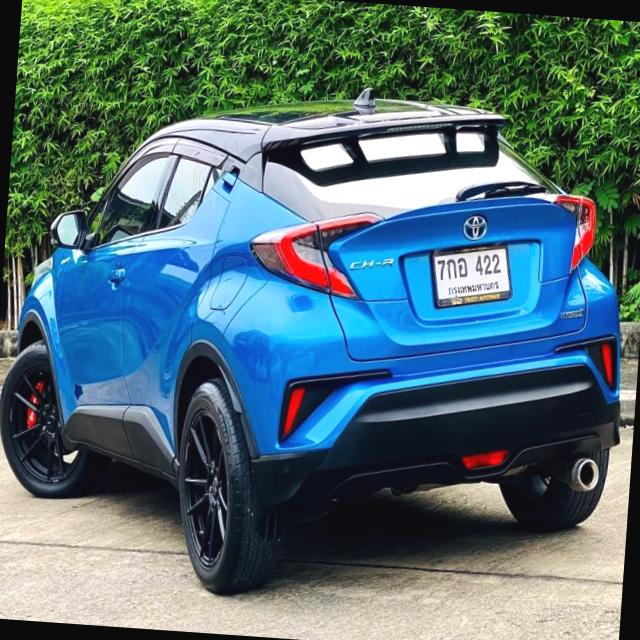license_plate: (426, 239, 516, 310)
